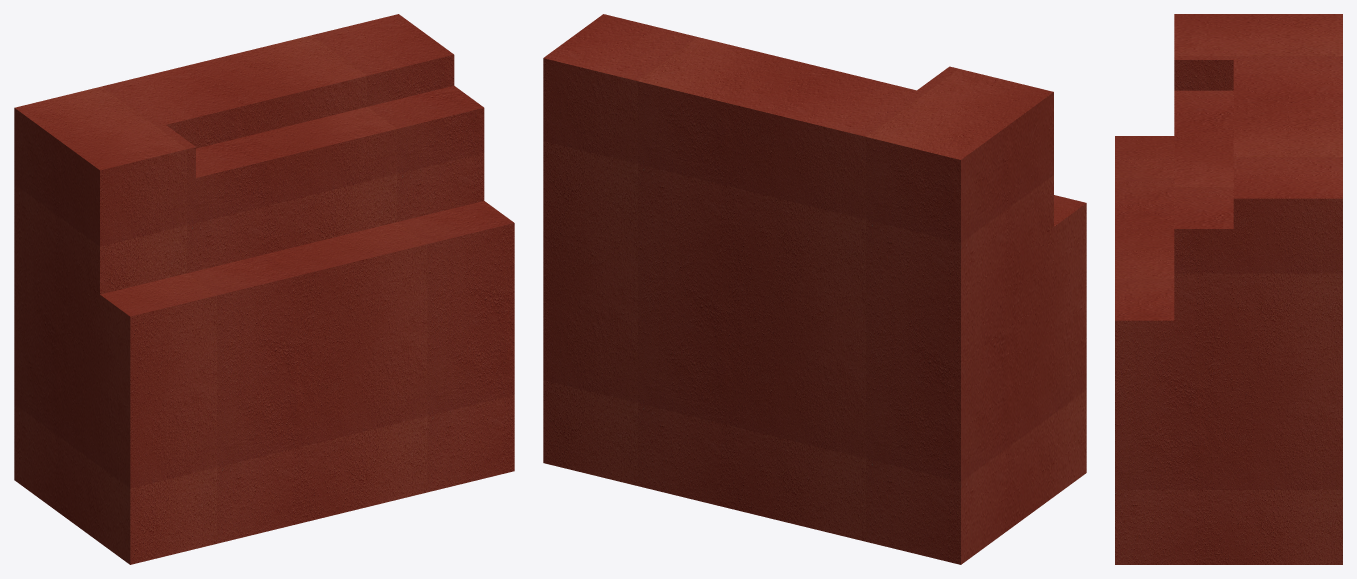
3 views of the same model, side by side, from view 1: azimuth 30°, elevation 25°; view 2: azimuth 150°, elevation 25°; view 3: azimuth 270°, elevation 25° (orthographic). The views are drawn at different scales.
Visible parts, largest first — view 1: IfcBuildingElementProxy/None.083_0; view 2: IfcBuildingElementProxy/None.083_0; view 3: IfcBuildingElementProxy/None.083_0.
Part boxes in pixels (bbox=[...]): IfcBuildingElementProxy/None.083_0: bbox=[14, 14, 514, 564]; IfcBuildingElementProxy/None.083_0: bbox=[543, 14, 1086, 564]; IfcBuildingElementProxy/None.083_0: bbox=[1115, 14, 1342, 564].
Size of the model in its own units: 0.9146 by 0.847 by 0.4772.
1 material, 1 textured.
